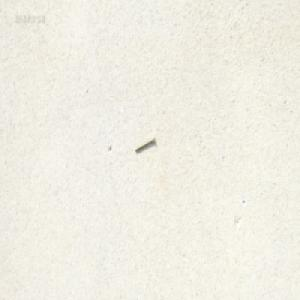Bolt: (134, 135, 155, 153)
